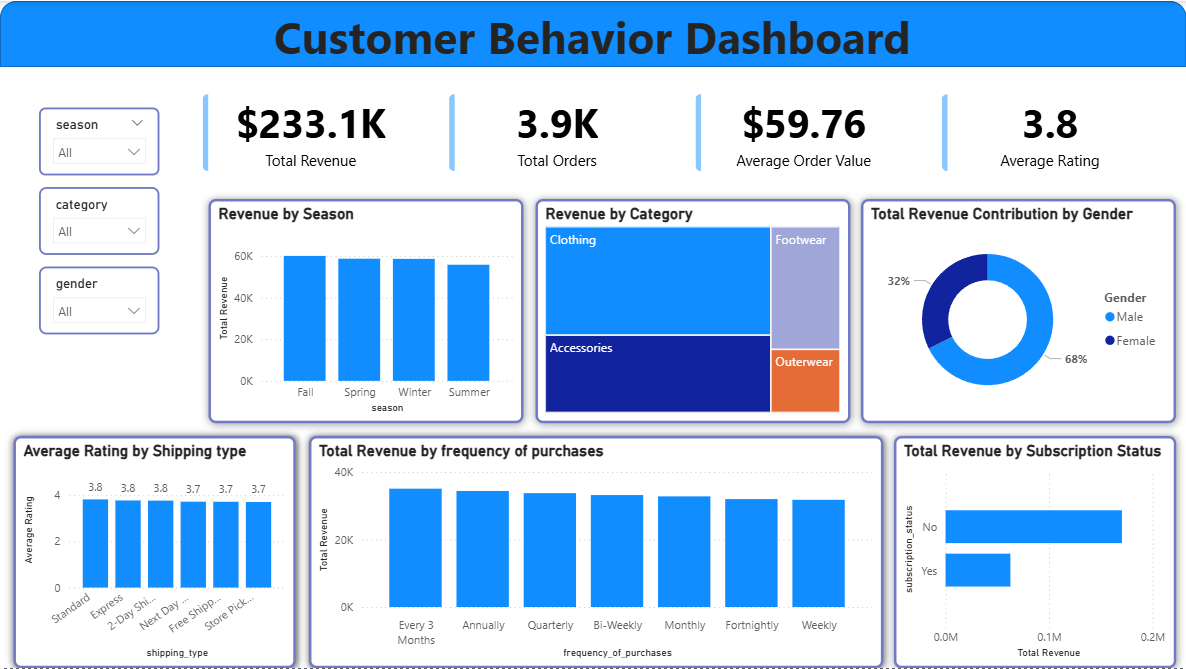

This screenshot's page, from the dashboard's own definition file:
{"tool":"powerbi","page":{"name":"Customer Behavior analysis","canvas":[1280,720],"ordinal":0},"visuals":[{"type":"cardVisual","fields":{"Data":["public customer.Total Revenue","public customer.Total Orders","public customer.Average Order Value","public customer.Average Rating"]},"box":[190,71.7,1090,141.7],"z":0},{"type":"shape","box":[0,0,1280.8,71.2],"z":1000},{"type":"columnChart","title":"Revenue by Season","fields":{"Category":["public customer.season"],"Y":["public customer.Total Revenue"]},"box":[225,213.3,340,241.7],"z":2000},{"type":"treemap","title":"Revenue by Category","fields":{"Values":["public customer.Total Revenue"],"Group":["public customer.category"]},"box":[577.5,213.3,340,241.7],"z":3000},{"type":"clusteredBarChart","title":"Total Revenue by Subscription Status","fields":{"Category":["public customer.subscription_status"],"Y":["public customer.Total Revenue"]},"box":[965.1,469.6,304.4,251],"z":4000},{"type":"slicer","fields":{"Values":["public customer.season"]},"box":[41.7,115,130,73.3],"z":5000},{"type":"slicer","fields":{"Values":["public customer.category"]},"box":[41.7,201,130,73],"z":6000},{"type":"slicer","fields":{"Values":["public customer.gender"]},"box":[41.7,286.7,130,73.3],"z":7000},{"type":"donutChart","title":"Total Revenue Contribution by Gender","fields":{"Category":["public customer.gender"],"Y":["public customer.Total Revenue"]},"box":[930,213.3,340,241.7],"z":8000},{"type":"clusteredColumnChart","title":"Total Revenue by frequency of purchases","fields":{"Category":["public customer.frequency_of_purchases"],"Y":["public customer.Total Revenue"]},"box":[333.6,469.6,620.2,251],"z":9000},{"type":"textbox","box":[108.5,0,1062.2,90.7],"z":10000},{"type":"clusteredColumnChart","title":"Average Rating by Shipping type","fields":{"Category":["public customer.shipping_type"],"Y":["public customer.Average Rating"]},"box":[14.6,469,304.4,251],"z":11000}]}

Visuals, with their boxes in screenshot pixels (x1, y1, x2, y2), scaled from the page's 1280x720 canvas onto the 1186x669 screenshot:
cardVisual - public customer.Total Revenue x public customer.Total Orders: 176 67 1185 198
shape: 0 0 1185 66
"Revenue by Season" columnChart: 208 198 524 423
"Revenue by Category" treemap: 535 198 850 423
"Total Revenue by Subscription Status" clusteredBarChart: 894 436 1176 668
slicer - public customer.season: 39 107 159 175
slicer - public customer.category: 39 187 159 255
slicer - public customer.gender: 39 266 159 334
"Total Revenue Contribution by Gender" donutChart: 862 198 1177 423
"Total Revenue by frequency of purchases" clusteredColumnChart: 309 436 884 668
textbox: 101 0 1085 84
"Average Rating by Shipping type" clusteredColumnChart: 14 436 296 668
